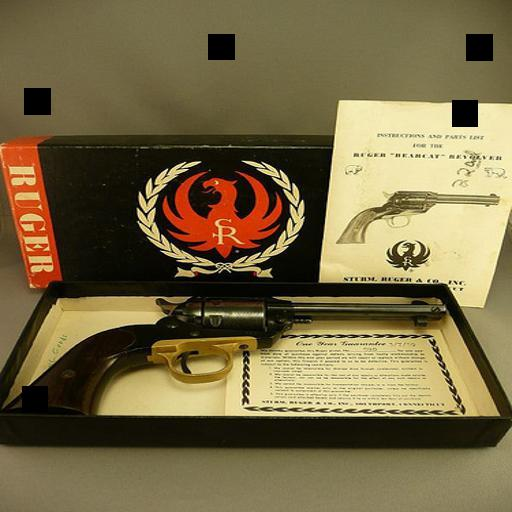Handgun: (0, 291, 446, 411), (330, 187, 500, 244)
